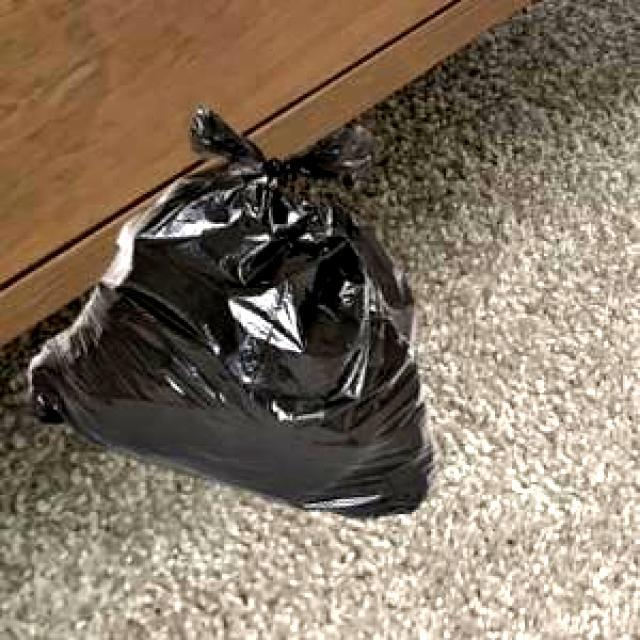Garbage_Bag: (22, 106, 434, 516)
